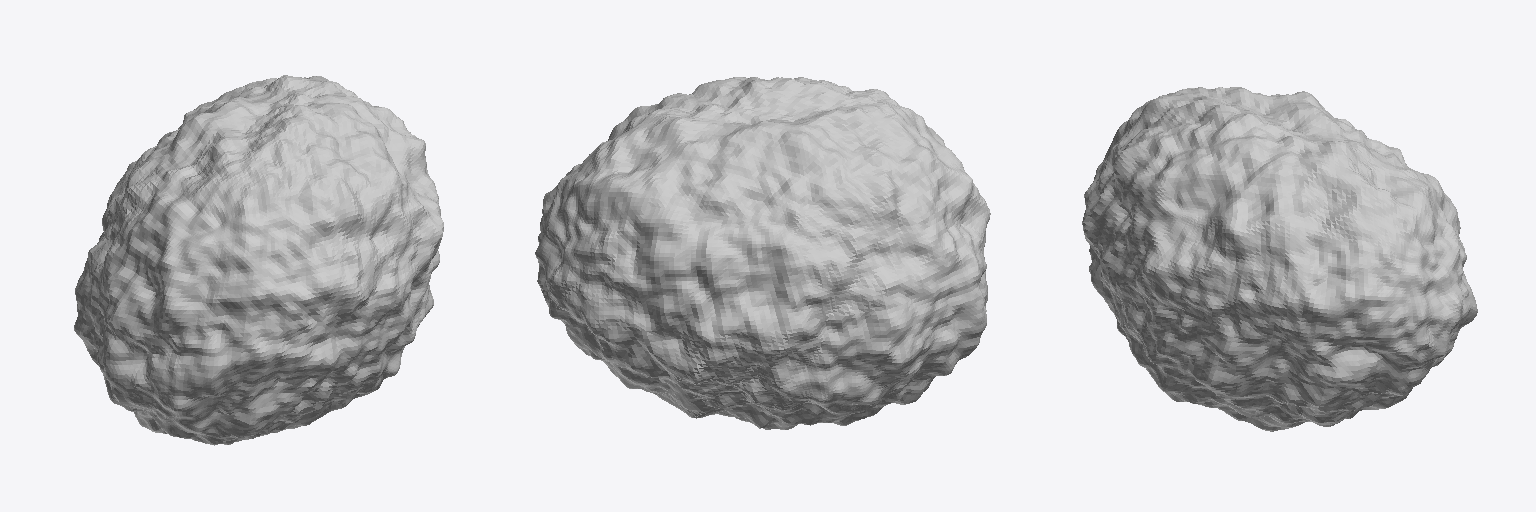
The model's file is Asteroid_1.obj.
3 renders of one model, left to right at view 1: azimuth 30°, elevation 25°; view 2: azimuth 150°, elevation 25°; view 3: azimuth 270°, elevation 25°, orthographic.
Parts seen in each view (by area): view 1: Cube; view 2: Cube; view 3: Cube.
Boxes of the visible parts, <box> form: Cube: <box>74,75,443,445</box>; Cube: <box>535,77,990,429</box>; Cube: <box>1082,87,1477,431</box>.
Size of the model in its own units: 2.05 by 1.66 by 1.92.